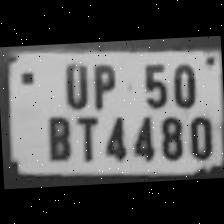0: (165, 58, 200, 109), (183, 108, 216, 161)
4: (124, 108, 156, 161), (97, 109, 128, 161)
5: (136, 59, 168, 109)
8: (154, 110, 185, 162)
B: (40, 108, 72, 162)
P: (85, 58, 120, 109)
T: (68, 111, 102, 162)
U: (56, 58, 90, 108)
